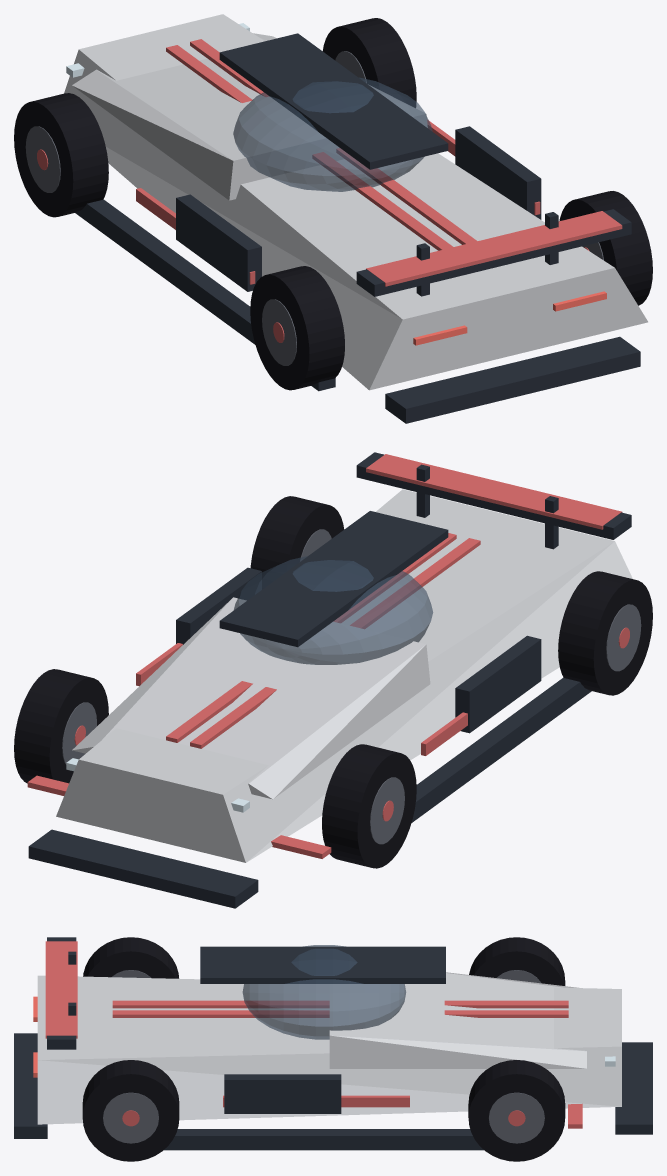
File: rival_one.glb
The picture shows the model from 3 angles, top to bottom: view 1: azimuth 30°, elevation 25°; view 2: azimuth 150°, elevation 25°; view 3: azimuth 270°, elevation 25°; orthographic projection. The views are drawn at different scales.
Visible parts, largest first — view 1: body_chassis, hood_slope, carbon_roof_spine, dark_cockpit_canopy, rear_diffuser, left_rear_tire, left_front_tire, left_side_skirt, rear_spoiler_accent, right_front_tire, left_side_intake, right_rear_tire (+7 smaller); view 2: body_chassis, hood_slope, carbon_roof_spine, dark_cockpit_canopy, left_front_tire, left_rear_tire, front_splitter, right_front_tire, left_side_skirt, rear_spoiler_accent, right_rear_tire, left_side_intake (+9 smaller); view 3: body_chassis, hood_slope, carbon_roof_spine, dark_cockpit_canopy, right_side_skirt, right_rear_tire, right_front_tire, right_side_intake, front_splitter, left_front_tire, rear_spoiler_accent, center_stripe_left (+9 smaller).
Part boxes in pixels (box(x1,y1,x2,y2)): body_chassis: box(64, 14, 647, 390); hood_slope: box(72, 33, 427, 200); carbon_roof_spine: box(219, 33, 448, 169); dark_cockpit_canopy: box(233, 77, 432, 191); rear_diffuser: box(385, 336, 640, 423); left_rear_tire: box(250, 266, 344, 390); left_front_tire: box(14, 93, 108, 217); left_side_skirt: box(75, 199, 335, 391); rear_spoiler_accent: box(366, 211, 622, 286); right_front_tire: box(322, 18, 416, 107); left_side_intake: box(176, 194, 261, 291); right_rear_tire: box(559, 191, 652, 305); body_chassis: box(56, 489, 632, 862); hood_slope: box(72, 597, 430, 799); carbon_roof_spine: box(219, 511, 448, 647); dark_cockpit_canopy: box(234, 556, 432, 664); left_front_tire: box(322, 744, 416, 868); left_rear_tire: box(558, 571, 652, 695); front_splitter: box(28, 829, 258, 908); right_front_tire: box(14, 669, 108, 783); left_side_skirt: box(411, 677, 591, 822); rear_spoiler_accent: box(366, 454, 622, 529); right_rear_tire: box(250, 496, 344, 589); left_side_intake: box(455, 635, 541, 733); body_chassis: box(37, 975, 621, 1124); hood_slope: box(329, 972, 586, 1068); carbon_roof_spine: box(200, 946, 445, 983); dark_cockpit_canopy: box(242, 945, 405, 1039); right_side_skirt: box(164, 1129, 483, 1150); right_rear_tire: box(82, 1060, 179, 1161); right_front_tire: box(468, 1060, 565, 1161); right_side_intake: box(224, 1074, 341, 1113); front_splitter: box(615, 1042, 652, 1134); left_front_tire: box(469, 937, 565, 985); rear_spoiler_accent: box(45, 941, 77, 1038); center_stripe_left: box(112, 1000, 568, 1008).
Bounding box in the file's own units: 2.43 × 1.1 × 4.75.
